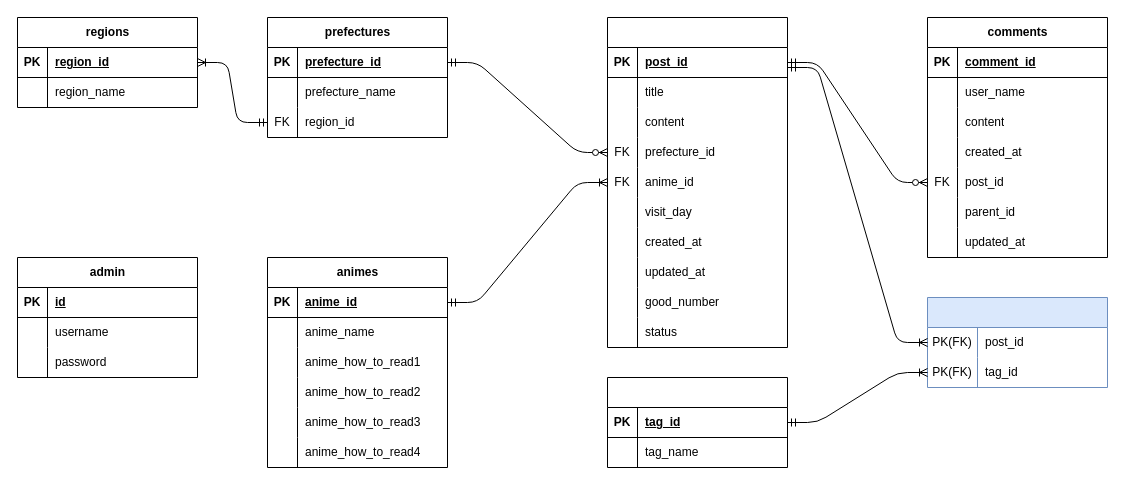
Some shapes in this 1125 by 485 pixel diagram are drawn without their labels. The shapes that lost their labels are listed below. From the top down, each one's box as (x1, y1, x2, y2) in pixels, then its label:
(606, 16, 788, 348): posts
(926, 296, 1108, 388): post_tag
(606, 376, 788, 468): tag_lists
